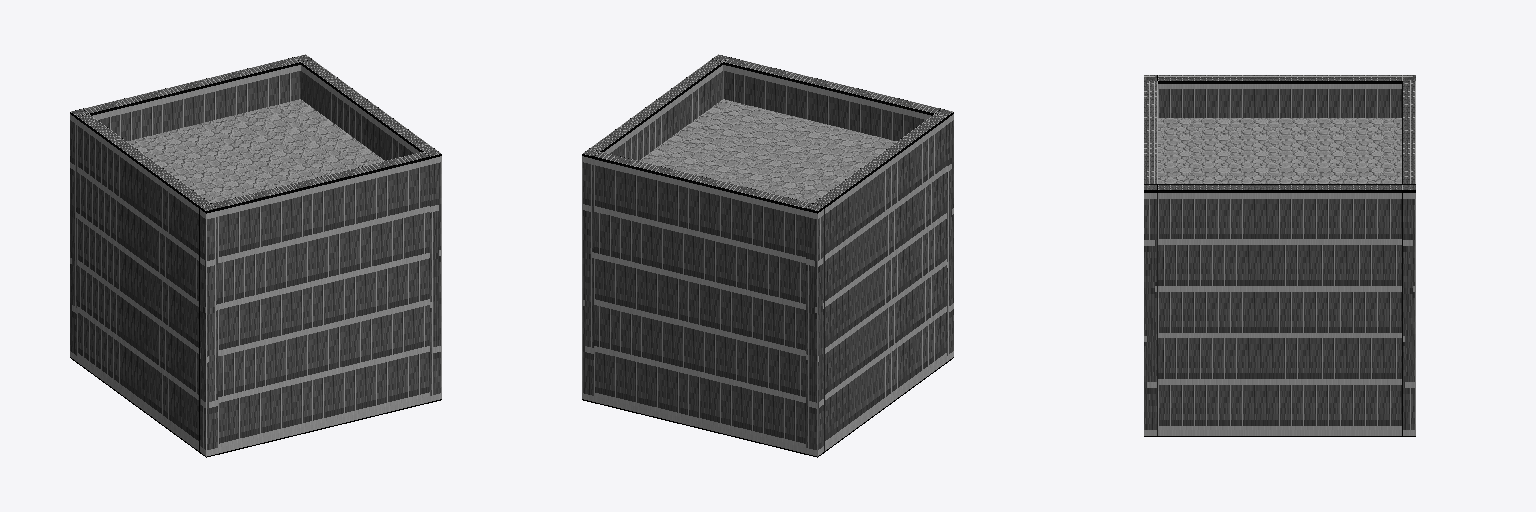
3 views of the same model, side by side, from view 1: azimuth 30°, elevation 25°; view 2: azimuth 150°, elevation 25°; view 3: azimuth 270°, elevation 25° (orthographic).
Visible parts, largest first — view 1: waku_立方体.003; view 2: waku_立方体.003; view 3: waku_立方体.003.
Boxes of the visible parts, box(x1,y1,x2,y2) form: waku_立方体.003: box(70, 54, 441, 457); waku_立方体.003: box(582, 54, 953, 457); waku_立方体.003: box(1144, 75, 1415, 436).
Size of the model in its own units: 2 by 2 by 2.
1 materials, 1 textured.